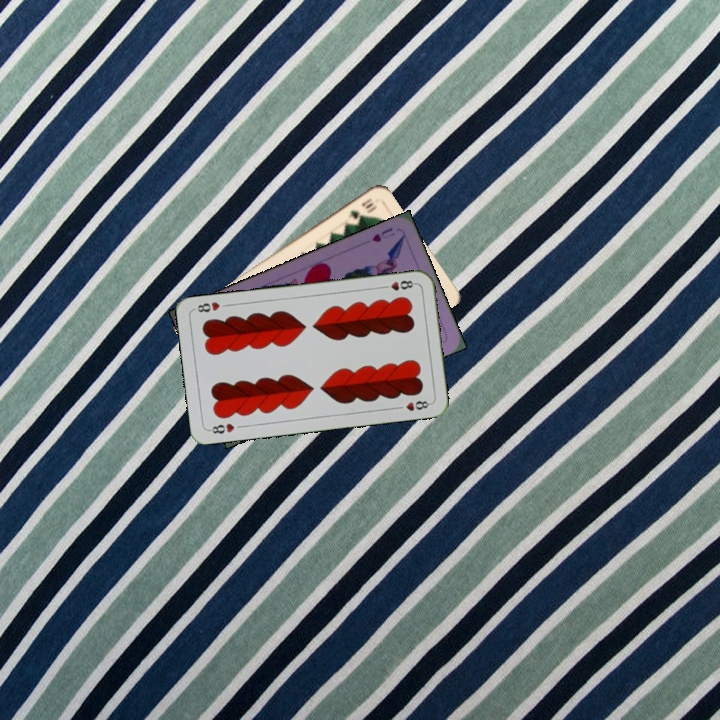G10: (344, 194, 378, 222)
H8: (378, 276, 418, 293), (205, 419, 237, 436)
HU: (368, 224, 397, 245)
